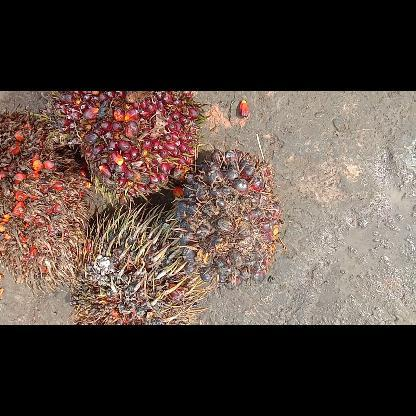TBS abnormal: (67, 202, 205, 324)
TBS masak: (43, 90, 205, 198)
TBS mentah: (172, 150, 280, 288)
Terlalu masak: (0, 109, 92, 289)
